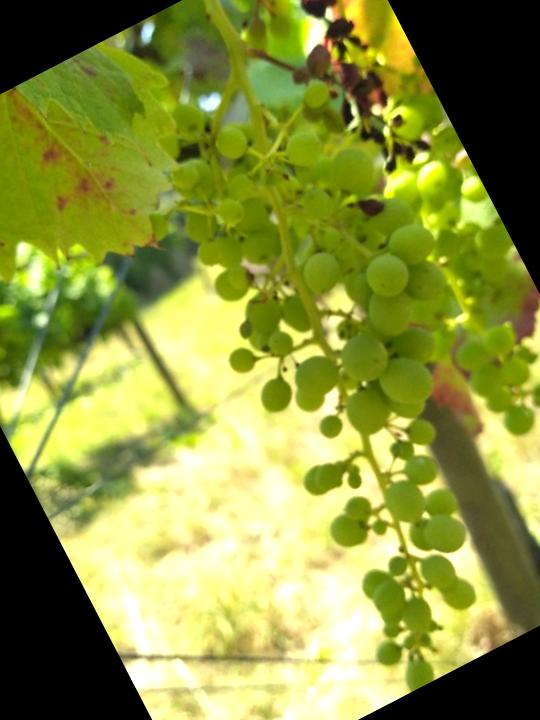grape: (118, 59, 540, 712), (245, 0, 455, 203)
